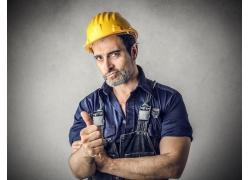helmet: (82, 12, 138, 50)
